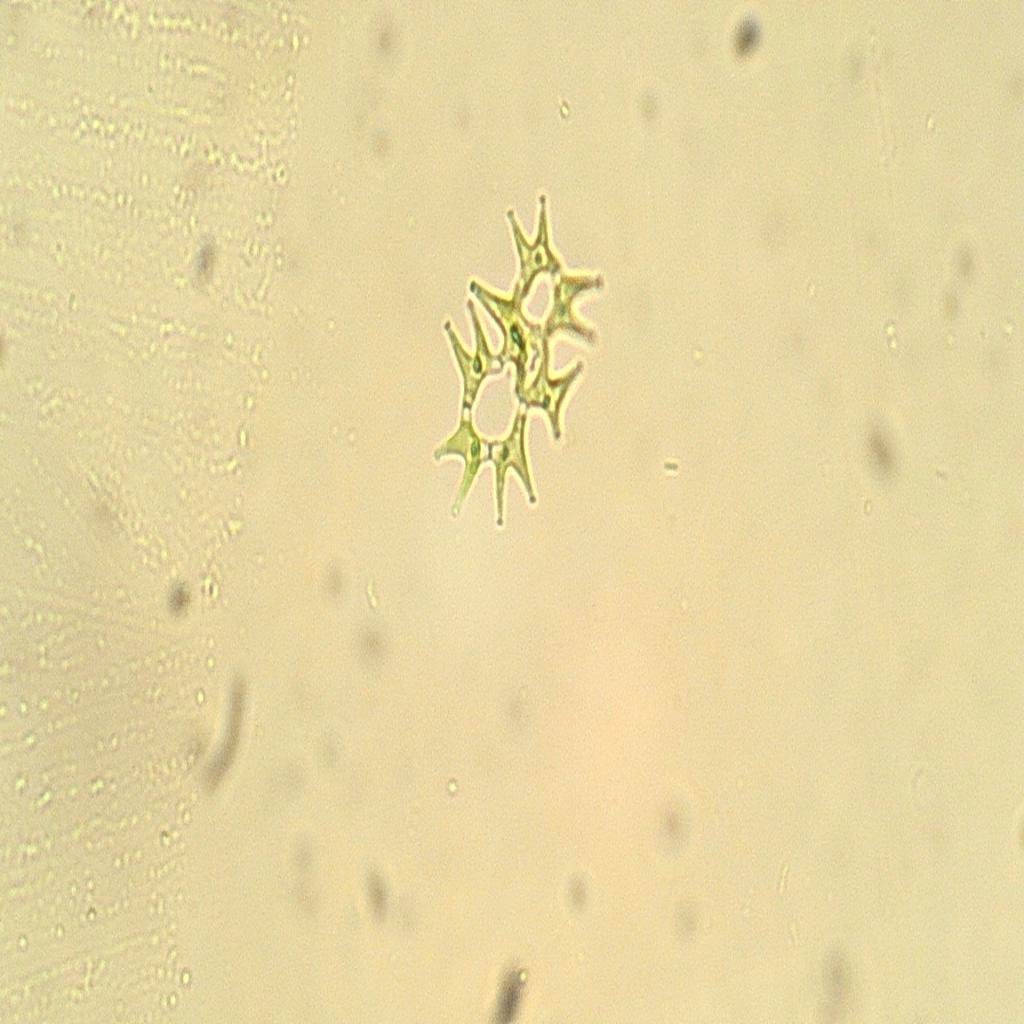Pediastrum_1TH: (426, 170, 613, 550)
